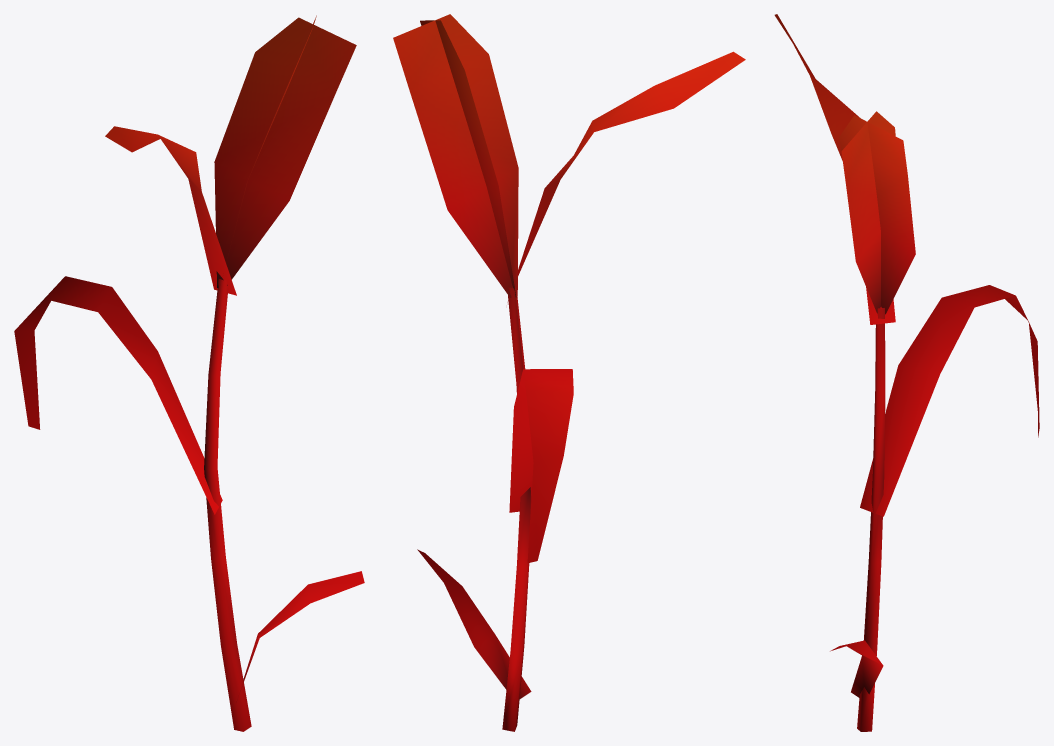
Rendered from SM_BarleyPlant_7.fbx.
3 views of the same model, side by side, from view 1: azimuth 30°, elevation 25°; view 2: azimuth 150°, elevation 25°; view 3: azimuth 270°, elevation 25° (orthographic). The views are drawn at different scales.
Parts seen in each view (by area): view 1: SM_BarleyPlant_7; view 2: SM_BarleyPlant_7; view 3: SM_BarleyPlant_7.
Part boxes in pixels (x1=…): SM_BarleyPlant_7: x1=14, y1=15, x2=364, y2=731; SM_BarleyPlant_7: x1=393, y1=14, x2=745, y2=731; SM_BarleyPlant_7: x1=774, y1=14, x2=1039, y2=731.
Bounding box in the file's own units: 0.5786 × 1.31 × 0.4866.
